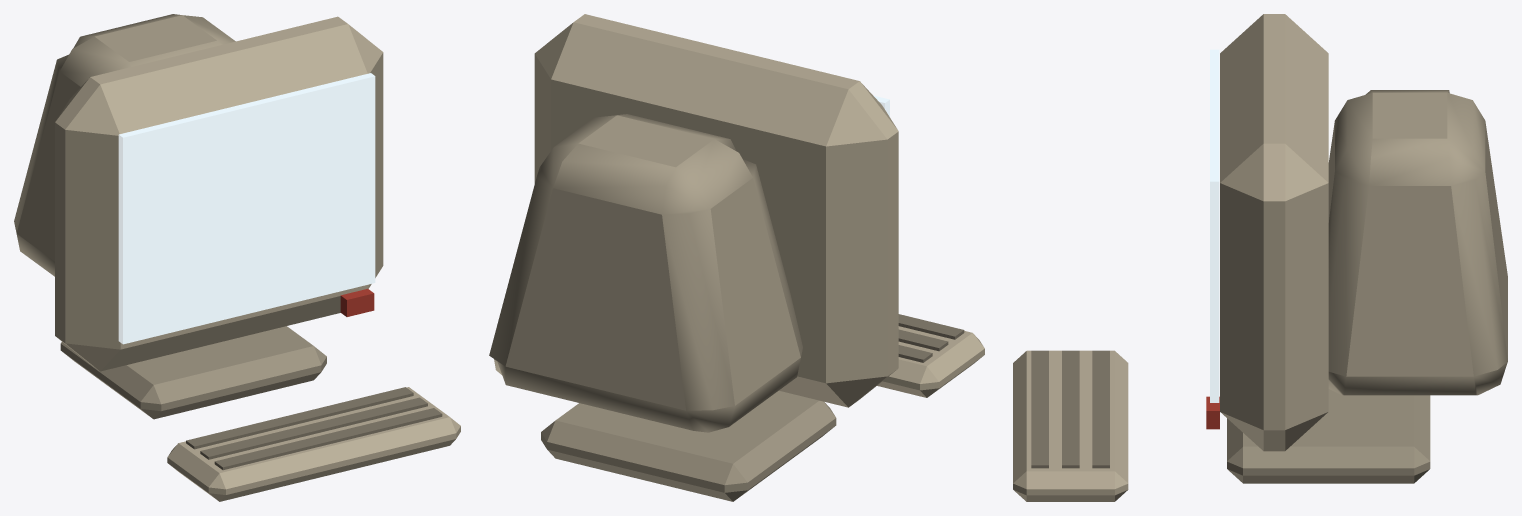
File: crt_computer.glb
3 renders of one model, left to right at view 1: azimuth 30°, elevation 25°; view 2: azimuth 150°, elevation 25°; view 3: azimuth 270°, elevation 25°, orthographic. The views are drawn at different scales.
Visible parts, largest first — view 1: body; view 2: body; view 3: body.
Boxes of the visible parts, x1,y1,x2,y2 form: body: (14,14,460,501); body: (489,14,984,501); body: (1013,14,1507,501).
Bounding box in the file's own units: 0.58 × 0.59 × 0.7291.
